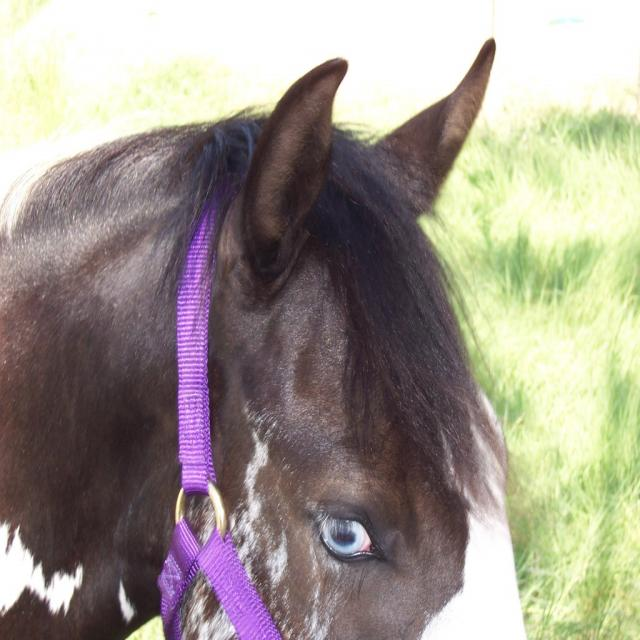Horse: (0, 37, 529, 639)
